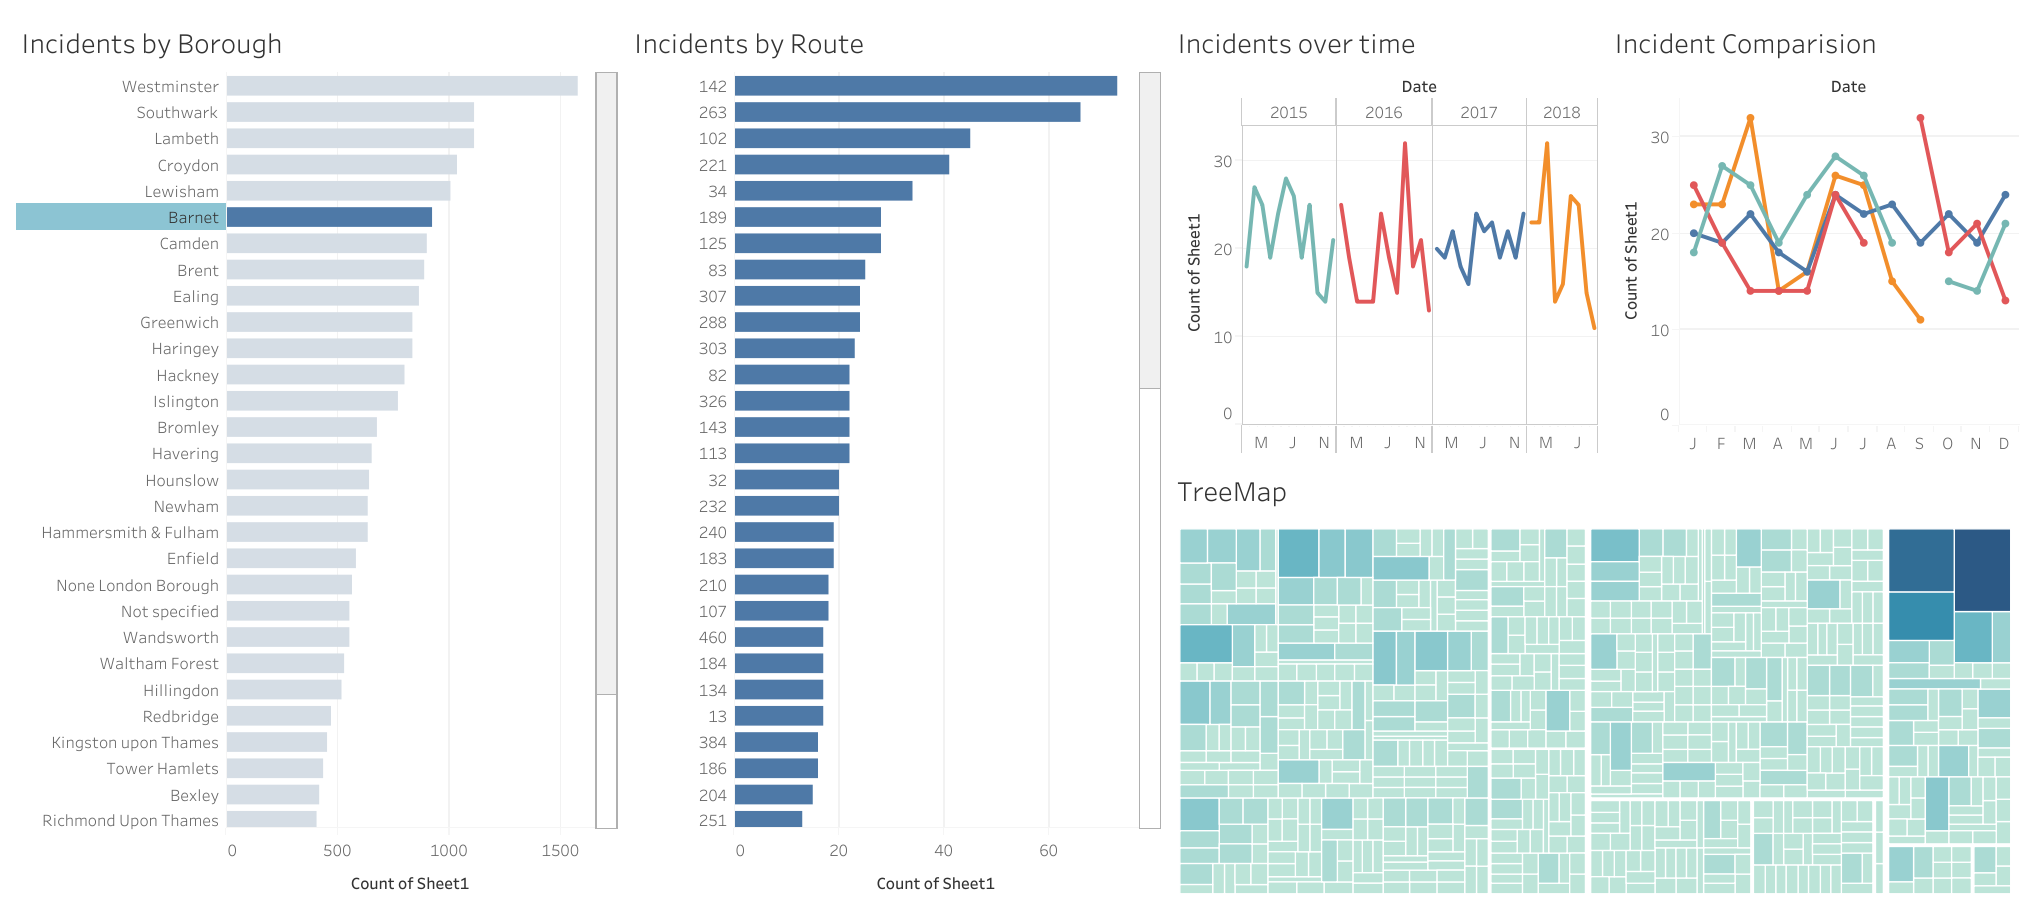

This screenshot's page, from the dashboard's own definition file:
{"tool":"tableau","page":{"name":"Dashboard 1","canvas":[1550,700],"ordinal":0},"visuals":[{"type":"worksheet","title":"Incidents by Borough","mark":"Automatic","rows":["Borough"],"cols":["Sheet1_6FD8A15552F14C1895425EAB264F92C9"],"box":[8,8,467,684]},{"type":"worksheet","title":"Incidents by Route","mark":"Automatic","rows":["Route"],"cols":["Sheet1_6FD8A15552F14C1895425EAB264F92C9"],"box":[475,8,414,684]},{"type":"worksheet","title":"Incidents over time","mark":"Automatic","rows":["Sheet1_6FD8A15552F14C1895425EAB264F92C9"],"cols":["Date Of Incident","Date Of Incident"],"box":[889,8,333,342]},{"type":"worksheet","title":"Incident Comparision","mark":"Automatic","rows":["Sheet1_6FD8A15552F14C1895425EAB264F92C9"],"cols":["Date Of Incident"],"box":[1222,8,320,342]},{"type":"worksheet","title":"TreeMap","mark":"Automatic","box":[889,350,653,342]}]}

Visuals, with their boxes in screenshot pixels (x1, y1, x2, y2), scaled from the page's 1550x700 canvas onto the 2033x917 screenshot:
"Incidents by Borough" worksheet: crop(10, 10, 623, 907)
"Incidents by Route" worksheet: crop(623, 10, 1166, 907)
"Incidents over time" worksheet: crop(1166, 10, 1603, 458)
"Incident Comparision" worksheet: crop(1603, 10, 2023, 458)
"TreeMap" worksheet: crop(1166, 458, 2023, 907)
